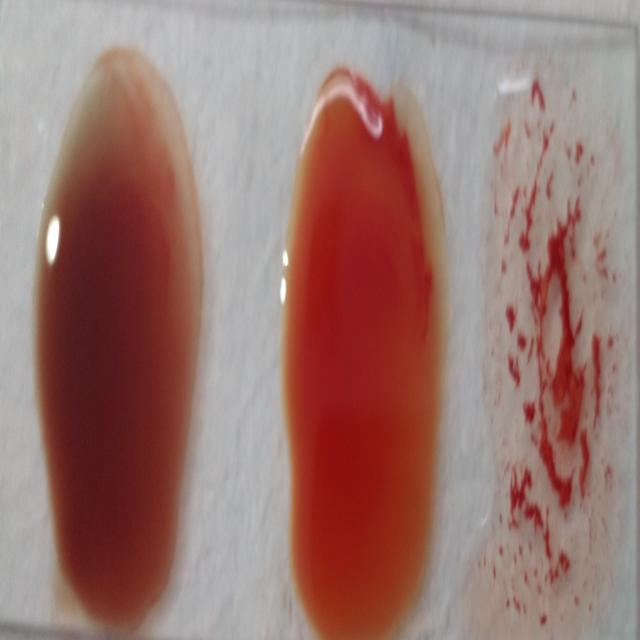D: (477, 48, 628, 624)
